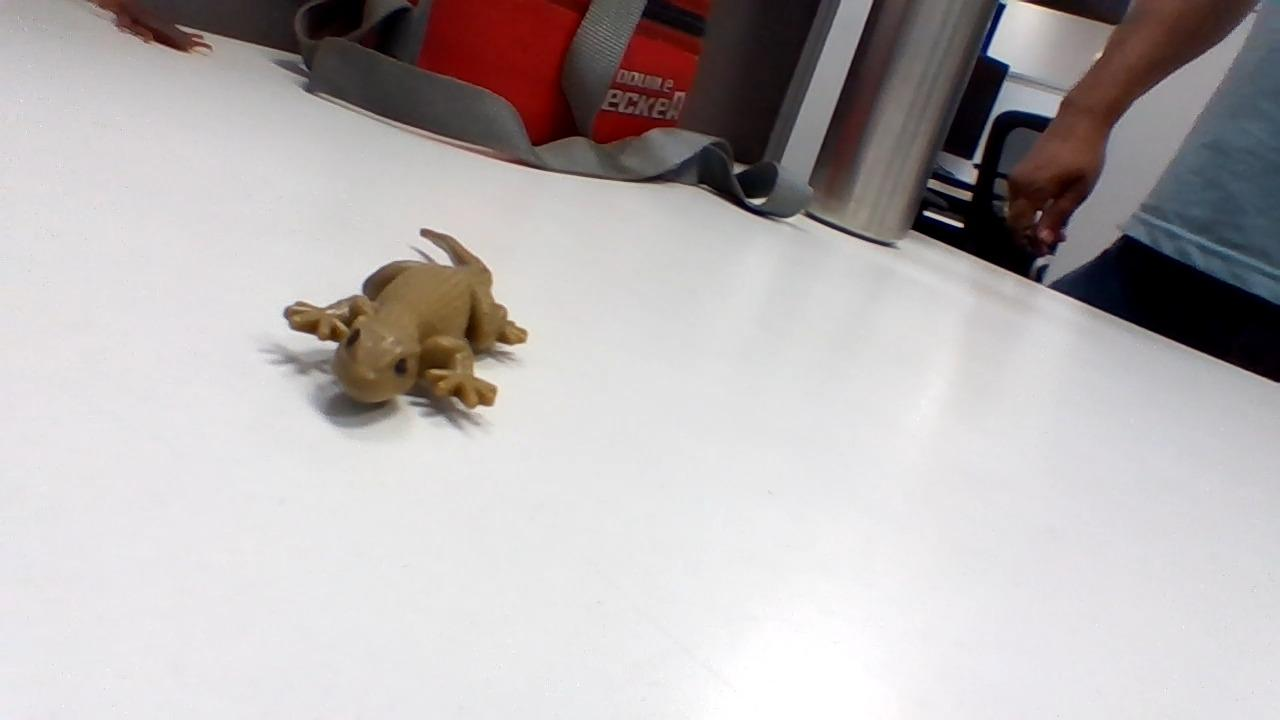lizard: (275, 212, 526, 413)
